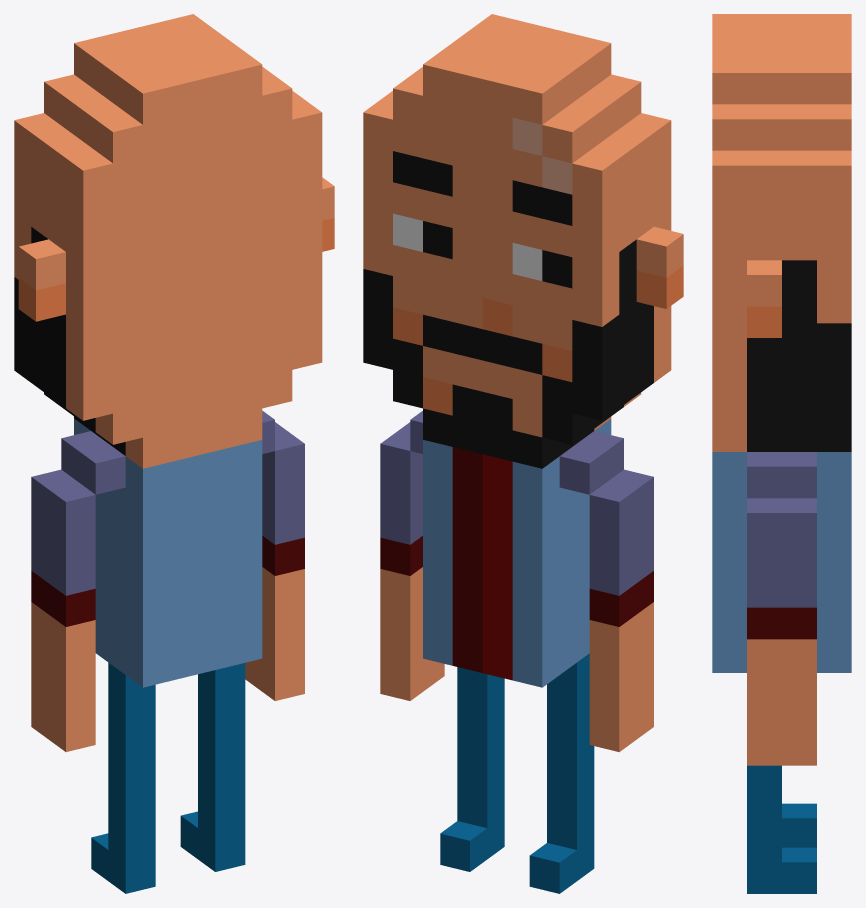
The model's file is persomale.obj.
The picture shows the model from 3 angles, left to right: view 1: azimuth 30°, elevation 25°; view 2: azimuth 150°, elevation 25°; view 3: azimuth 270°, elevation 25°; orthographic projection.
Size of the model in its own units: 1 by 2.6 by 0.4.
Materials: 1 (1 with a texture image).
